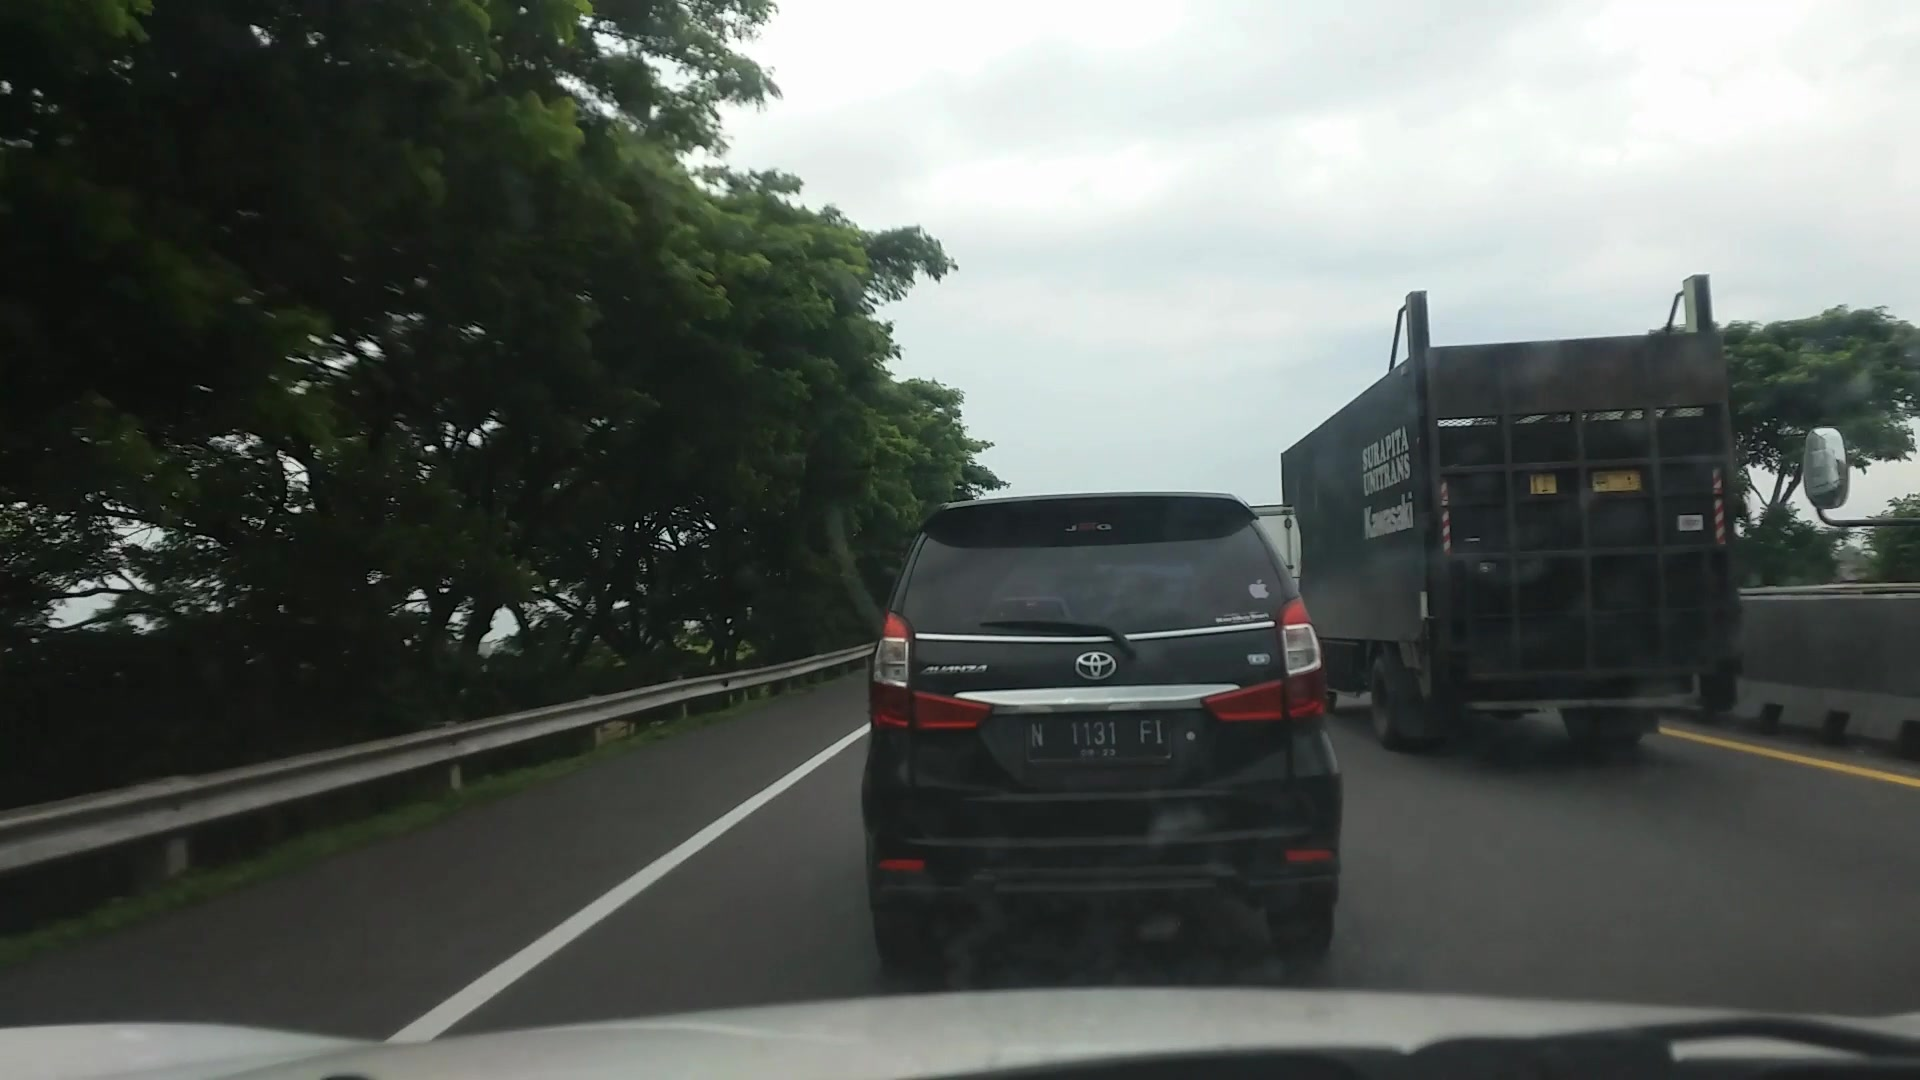plate_positive: (1029, 713, 1170, 760)
